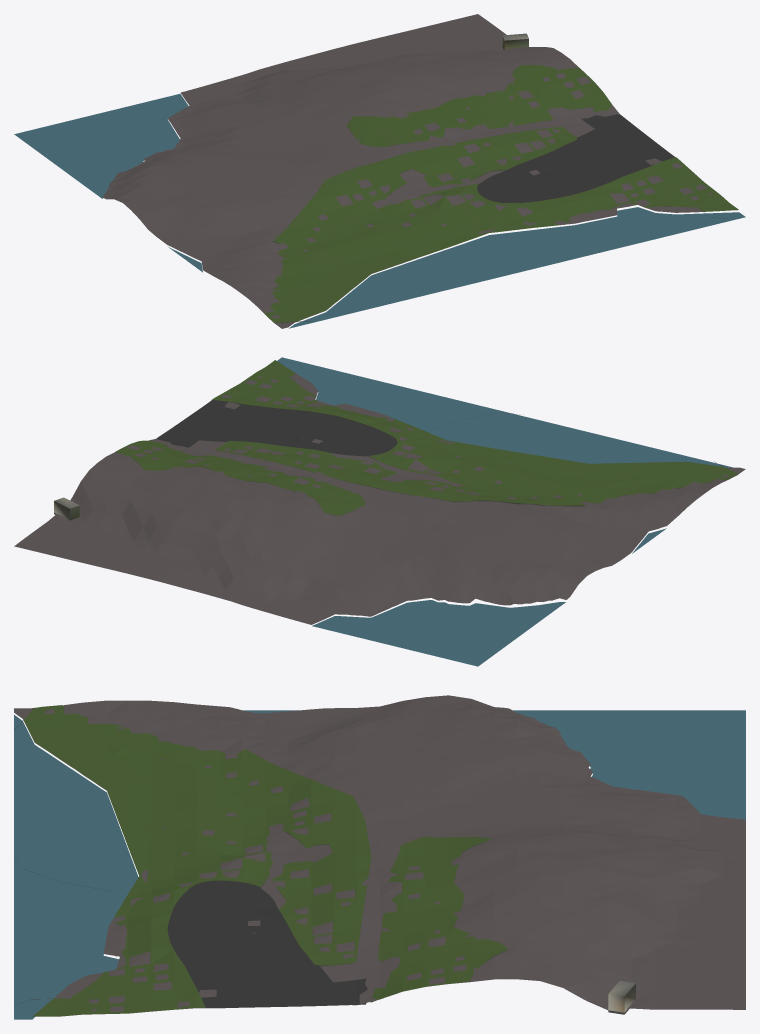
The picture shows the model from 3 angles, top to bottom: view 1: azimuth 30°, elevation 25°; view 2: azimuth 150°, elevation 25°; view 3: azimuth 270°, elevation 25°; orthographic projection. The views are drawn at different scales.
Parts seen in each view (by area): view 1: c_m22_m03; view 2: c_m22_m03; view 3: c_m22_m03.
Boxes of the visible parts, box(x1,y1,x2,y2) form: c_m22_m03: box(14, 14, 745, 328); c_m22_m03: box(14, 357, 745, 666); c_m22_m03: box(14, 695, 745, 1019).
Bounding box in the file's own units: 129 × 9.31 × 128.
